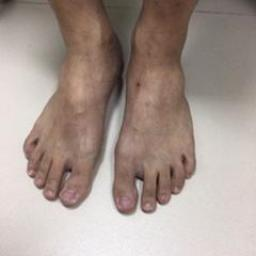Dorsal View -Both Feet-: (15, 12, 216, 222)
